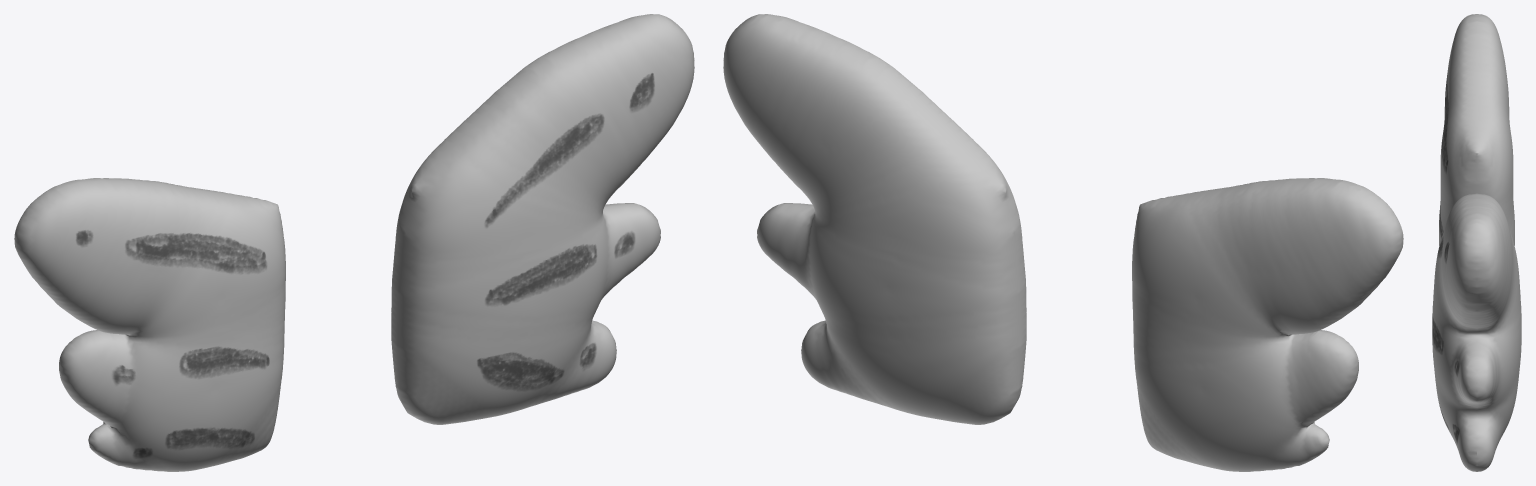
Rendered from wings.glb.
3 views of the same model, side by side, from view 1: azimuth 30°, elevation 25°; view 2: azimuth 150°, elevation 25°; view 3: azimuth 270°, elevation 25° (orthographic). The views are drawn at different scales.
Visible parts, largest first — view 1: mesh_id32, mesh_id41; view 2: mesh_id32, mesh_id41; view 3: mesh_id32, mesh_id41.
Part boxes in pixels (x1,y1,x2,y2): mesh_id32: (391,14,694,424); mesh_id41: (14,178,285,471); mesh_id32: (723,14,1026,424); mesh_id41: (1132,178,1403,471); mesh_id32: (1432,193,1521,471); mesh_id41: (1439,14,1514,245).
Size of the model in its own units: 0.5801 by 0.2936 by 0.0851.
Materials: 2 (2 with a texture image).
